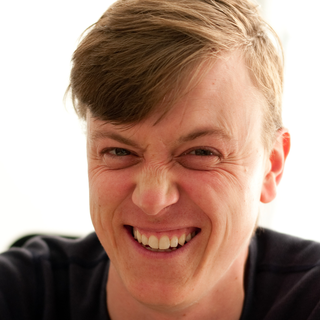eye: (174, 141, 222, 164), (96, 143, 143, 165)
